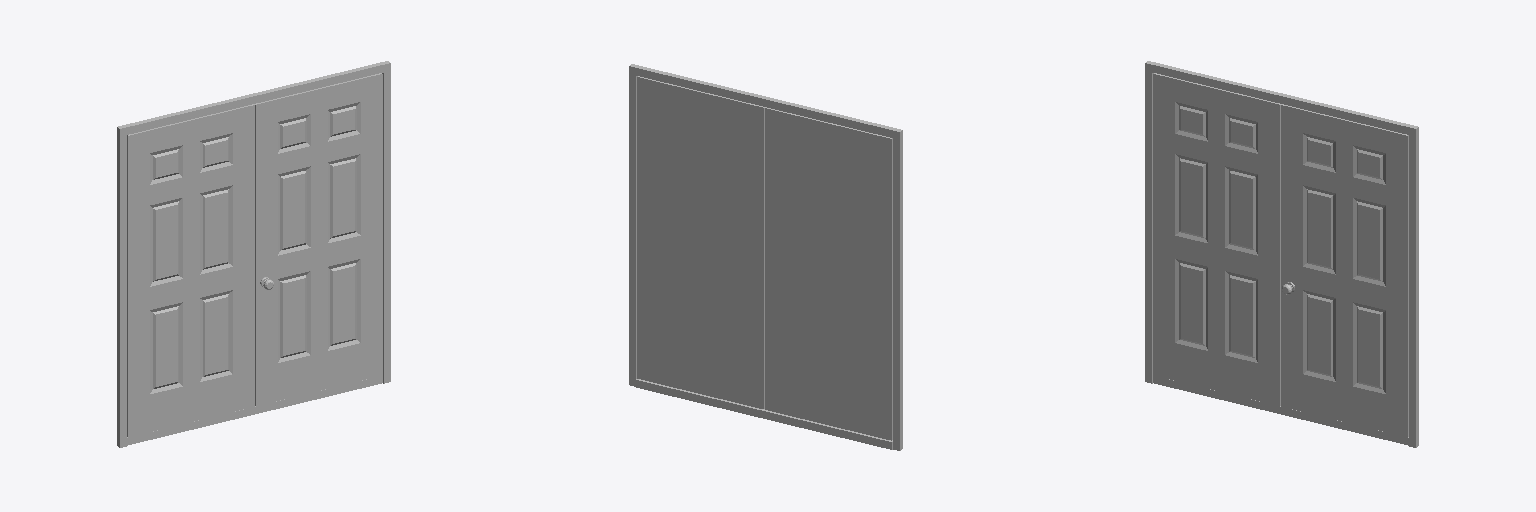
Rendered from Six_Panel_Door.obj.
The picture shows the model from 3 angles: view 1: azimuth 30°, elevation 25°; view 2: azimuth 150°, elevation 25°; view 3: azimuth 330°, elevation 25°; orthographic projection.
Visible parts, largest first — view 1: Door_Door_Door.001, Trim_Door_Trim_Door_Trim.001, Wood_Wood_Base_Door_Trim.002; view 2: Door_Door_Door.001, Trim_Door_Trim_Door_Trim.001, Wood_Wood_Base_Door_Trim.002; view 3: Door_Door_Door.001, Trim_Door_Trim_Door_Trim.001, Wood_Wood_Base_Door_Trim.002.
Boxes of the visible parts, box(x1,y1,x2,y2) form: Door_Door_Door.001: box(127, 73, 382, 437); Trim_Door_Trim_Door_Trim.001: box(117, 61, 390, 447); Wood_Wood_Base_Door_Trim.002: box(127, 376, 382, 445); Door_Door_Door.001: box(637, 76, 892, 440); Trim_Door_Trim_Door_Trim.001: box(629, 64, 902, 450); Wood_Wood_Base_Door_Trim.002: box(635, 379, 892, 449); Door_Door_Door.001: box(1153, 73, 1408, 437); Trim_Door_Trim_Door_Trim.001: box(1145, 61, 1418, 447); Wood_Wood_Base_Door_Trim.002: box(1153, 376, 1408, 445).
Bounding box in the file's own units: 15.59 × 17.57 × 0.8732.